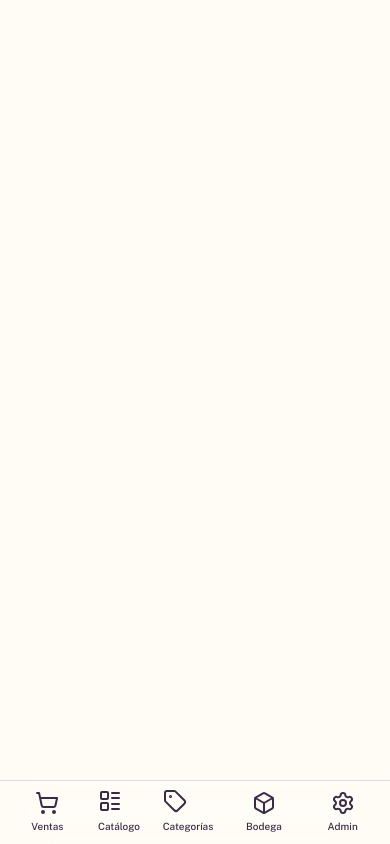
Test: BottomNav — flag registro_notas_bodega_ui=false › sheet Bodega › NO contiene Registro de Notas cuando flag=false
Click the button "Bodega" at (264, 812), box [236,781,292,843]
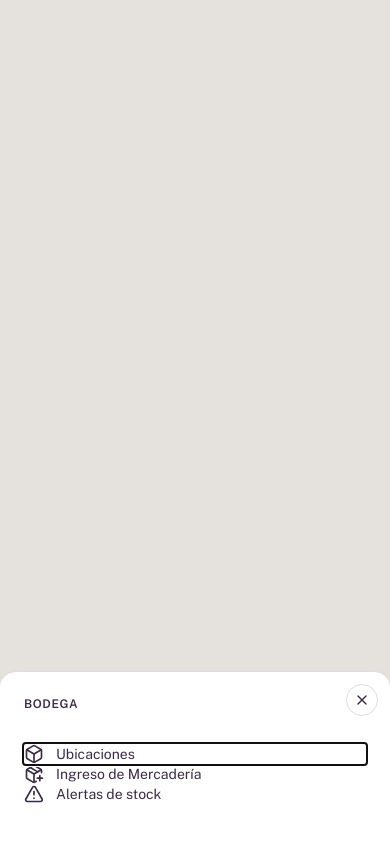
Now the text "Ubicaciones" is shown, box [24,744,135,764]
